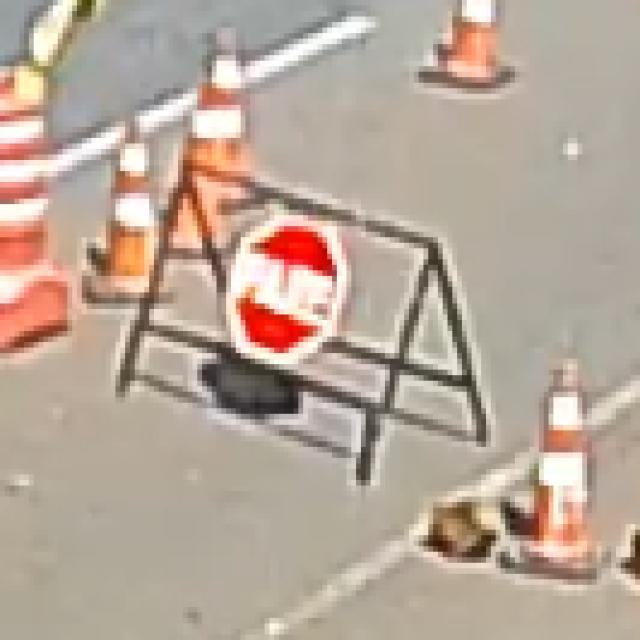big_cone: (0, 0, 77, 353)
small_cone: (500, 353, 602, 579), (67, 127, 159, 303), (183, 33, 255, 248)
stop_sign: (226, 215, 351, 370)
